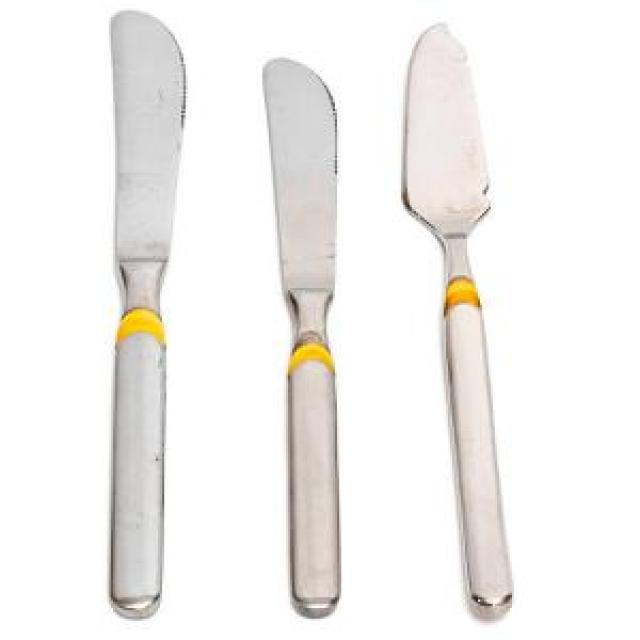knife: (92, 4, 190, 637), (260, 42, 350, 618)
